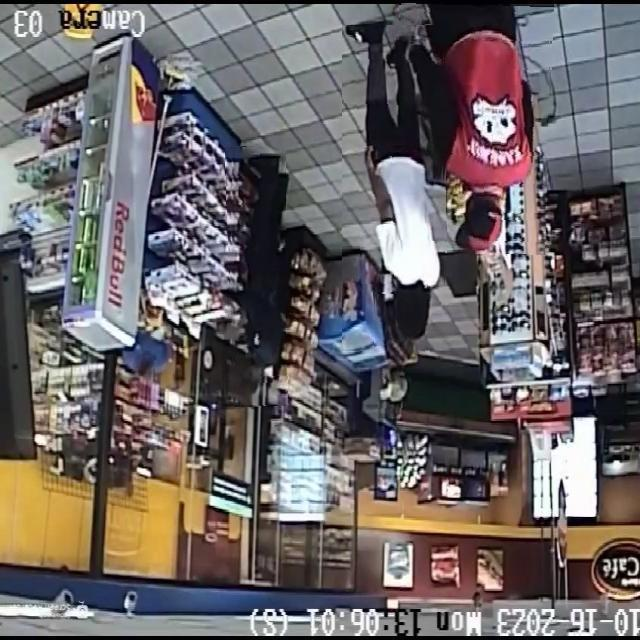Normal: (399, 0, 553, 254), (342, 25, 447, 354), (227, 146, 286, 406), (374, 294, 425, 408)
